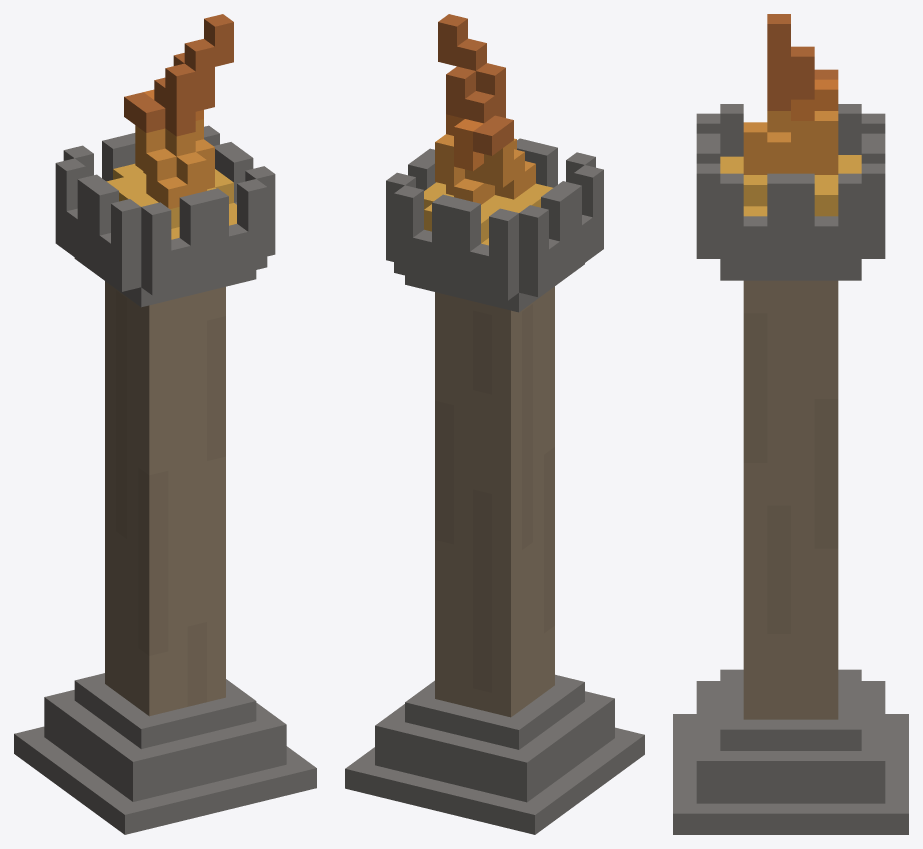
Rendered from Torch12.obj.
3 views of the same model, side by side, from view 1: azimuth 30°, elevation 25°; view 2: azimuth 150°, elevation 25°; view 3: azimuth 270°, elevation 25° (orthographic). The views are drawn at different scales.
Bounding box in the file's own units: 1 × 3.7 × 1.
1 material, 1 textured.
